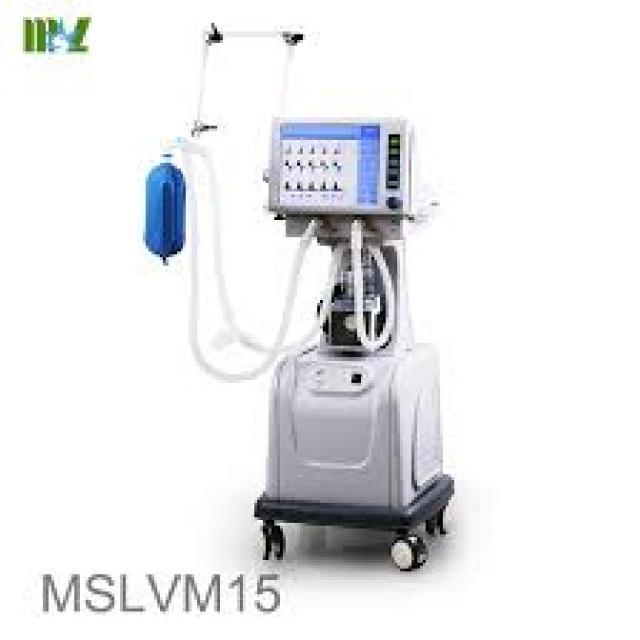ventilator: (146, 1, 478, 576)
